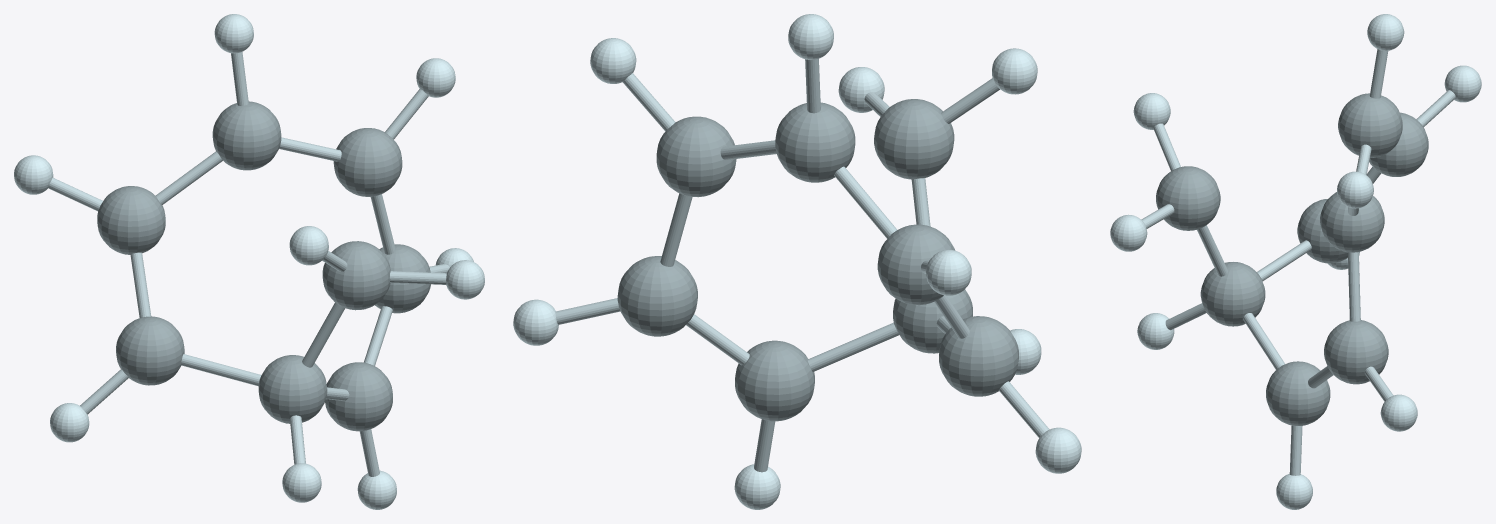
File: irc_step_203.glb
The picture shows the model from 3 angles, left to right: view 1: azimuth 30°, elevation 25°; view 2: azimuth 150°, elevation 25°; view 3: azimuth 270°, elevation 25°; orthographic projection. The views are drawn at different scales.
Visible parts, largest first — view 1: Renderer Node; view 2: Renderer Node; view 3: Renderer Node.
Part boxes in pixels (x1,y1,x2,y2): Renderer Node: [14, 14, 484, 509]; Renderer Node: [513, 14, 1081, 509]; Renderer Node: [1110, 14, 1481, 509].
Bounding box in the file's own units: 5.26 × 5.35 × 4.01.
